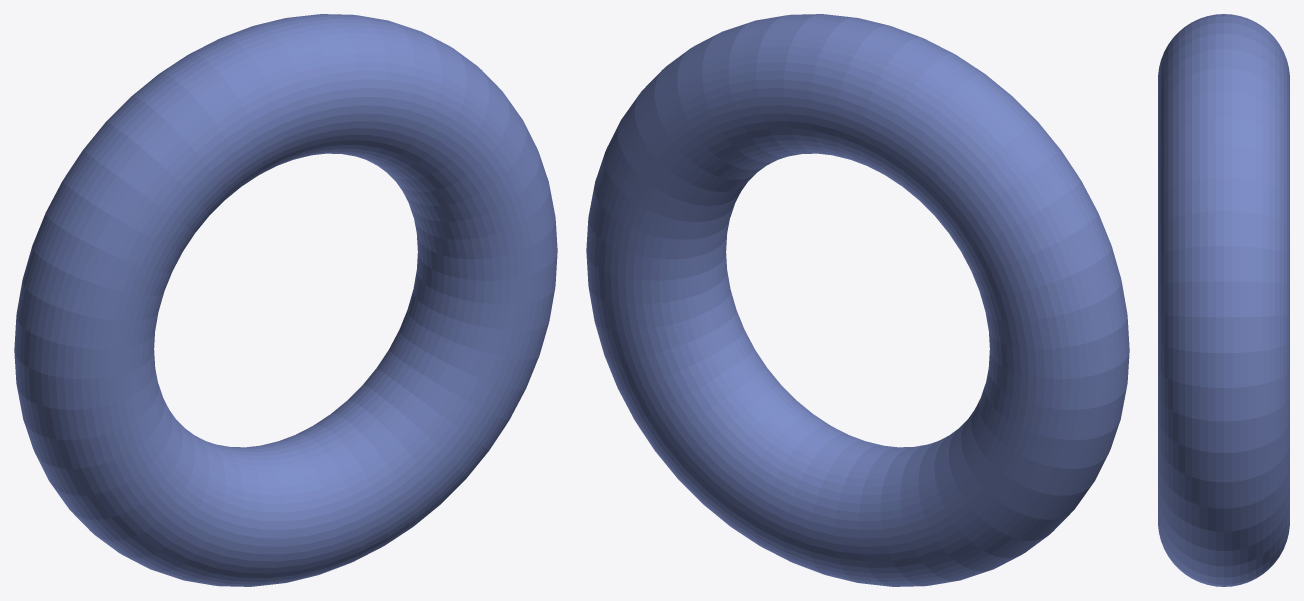
The picture shows the model from 3 angles, left to right: view 1: azimuth 30°, elevation 25°; view 2: azimuth 150°, elevation 25°; view 3: azimuth 270°, elevation 25°; orthographic projection. The views are drawn at different scales.
Parts seen in each view (by area): view 1: world; view 2: world; view 3: world.
Part boxes in pixels (left/top/right/bottom): world: left=14, top=14, right=557, bottom=586; world: left=586, top=14, right=1129, bottom=586; world: left=1158, top=14, right=1289, bottom=586.
Bounding box in the file's own units: 19.07 × 19.03 × 4.39.
